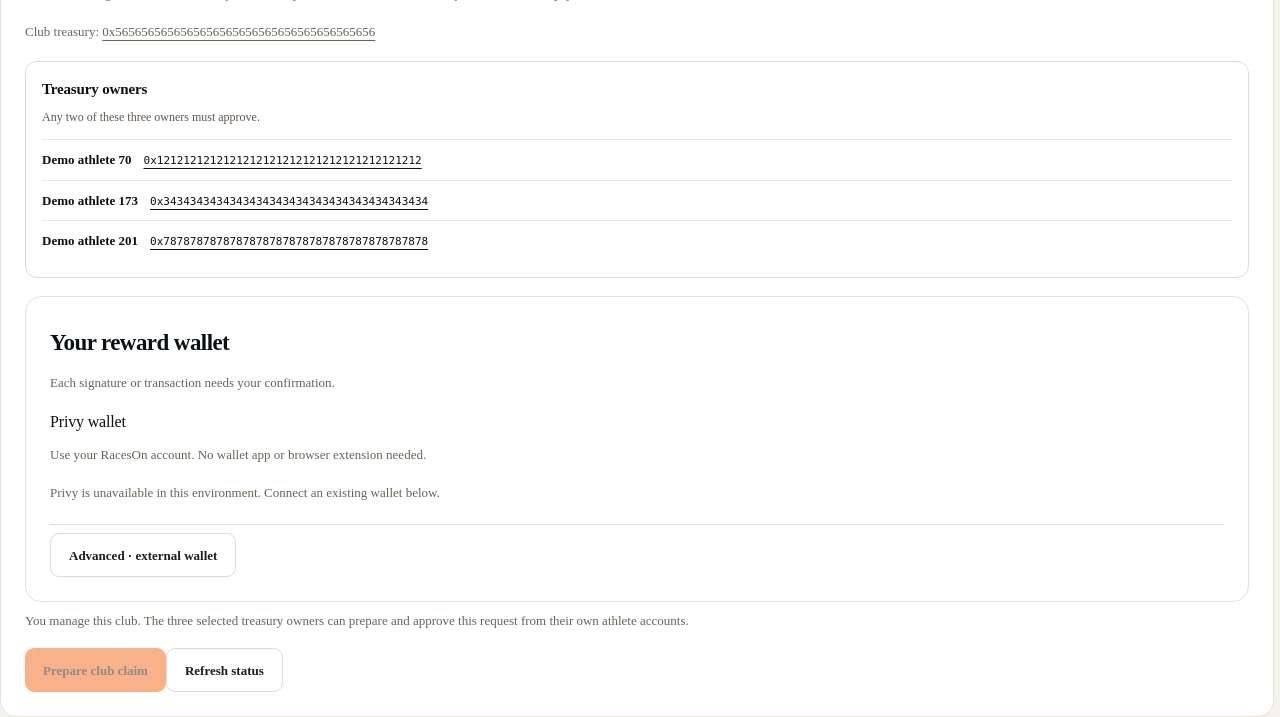
Test: shows the recorded owner names with full matching addresses before preparation, including for a manager
The width and height of the screenshot is (1280, 717).
(page scrolled)
Check: the list item "Demo athlete 70 0x1212121212121212121212121212121212121212" is shown, box [42, 139, 1232, 180]
Check: the list item "Demo athlete 173 0x3434343434343434343434343434343434343434" is shown, box [42, 180, 1232, 220]
Step 1. Click the button "Refresh status" → [224, 670], box [166, 648, 283, 692]
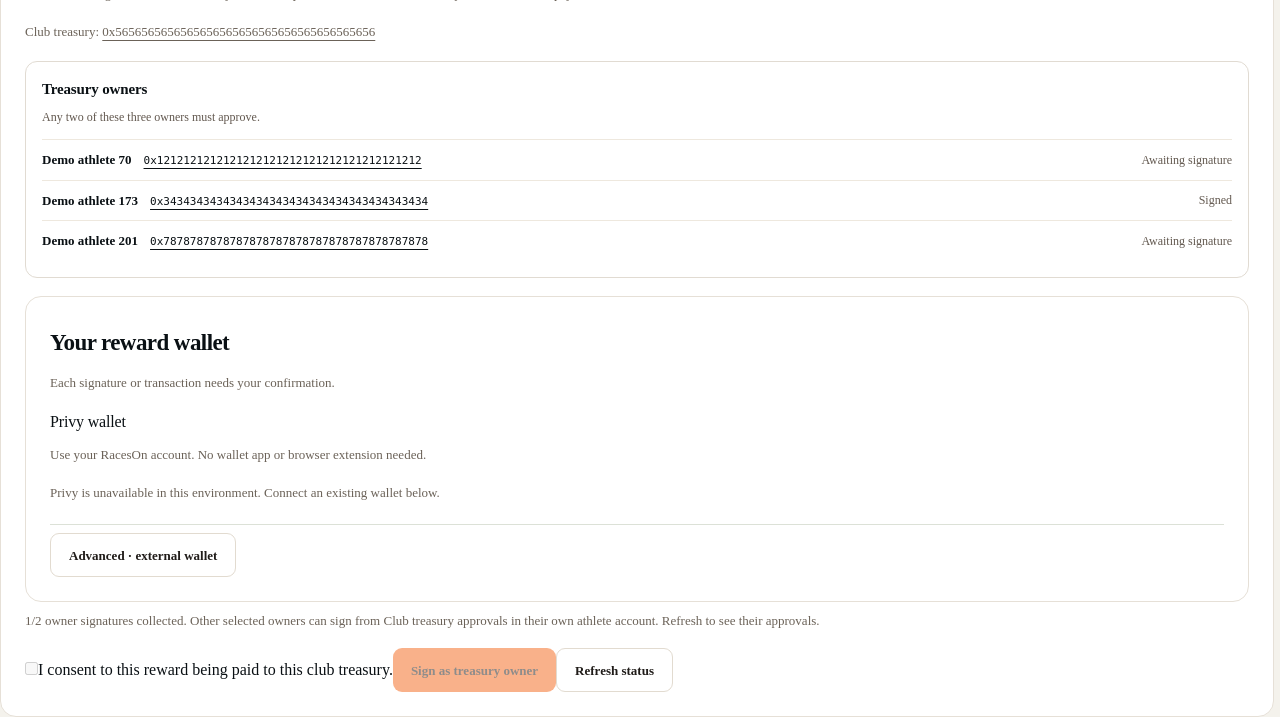
Check: the list item that starts with "Demo athlete 173" shows "Signed", box [1199, 193, 1232, 207]
Check: the list item that starts with "Demo athlete 70" shows "Awaiting signature", box [1142, 153, 1232, 167]
